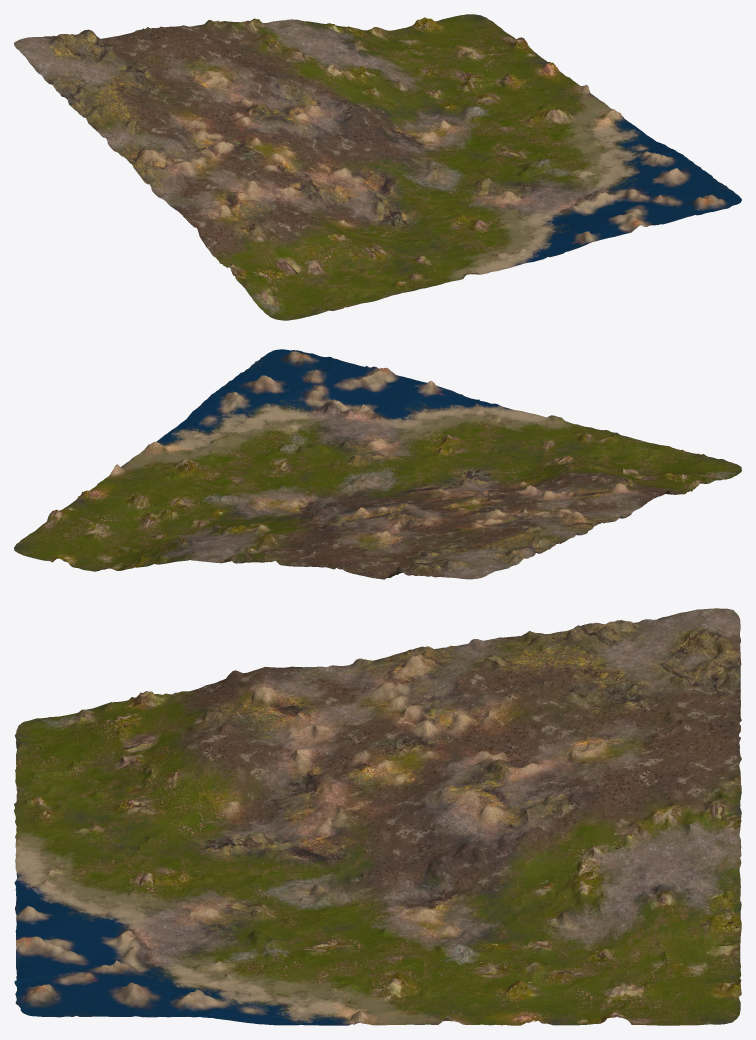
The model's file is sea-rock.glb.
3 views of the same model, one above another, from view 1: azimuth 30°, elevation 25°; view 2: azimuth 150°, elevation 25°; view 3: azimuth 270°, elevation 25° (orthographic). The views are drawn at different scales.
Parts seen in each view (by area): view 1: Subdivision_Surface; view 2: Subdivision_Surface; view 3: Subdivision_Surface.
Part boxes in pixels (box(x1,y1,x2,y2)): Subdivision_Surface: box(14, 14, 741, 320); Subdivision_Surface: box(14, 349, 741, 579); Subdivision_Surface: box(14, 608, 741, 1025).
Size of the model in its own units: 57.84 by 10.22 by 57.87.
1 material, 1 textured.
